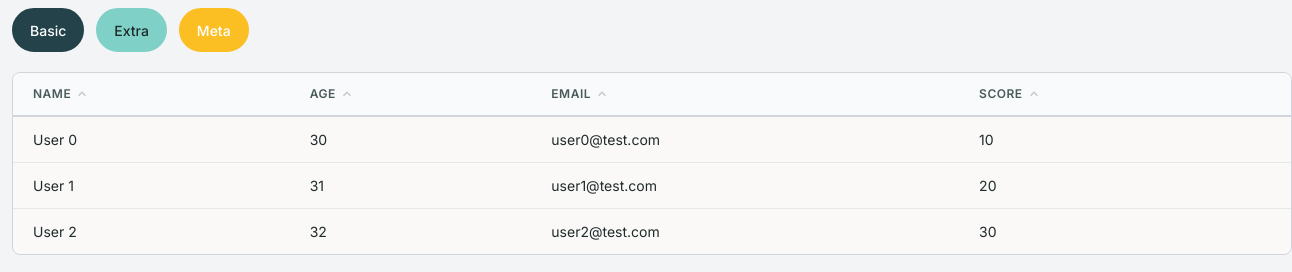
Test: ConfigurableTable › sorting › adds ct-sort-active class to active sort icon
What coordinates should you click on to do the following:
click the column heading with class "ct-th-sortable" showing "Name"
I would click on:
 (52, 94)
Its box is [13,73,290,116].
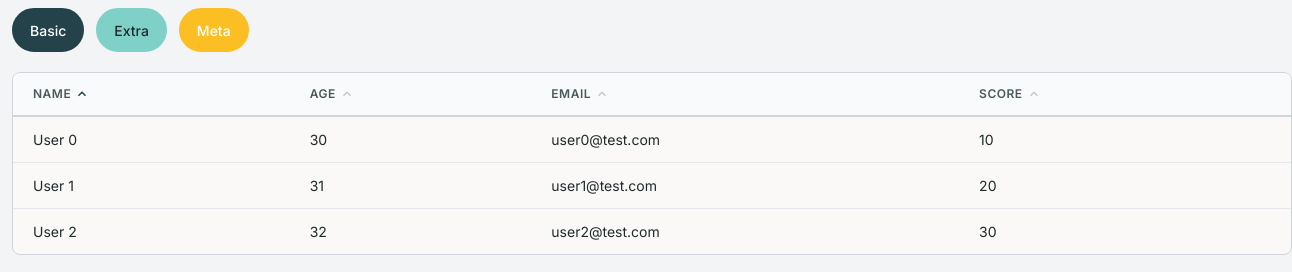
Check: the icon with class "ct-sort-active" is shown, box [75,87,89,101]
